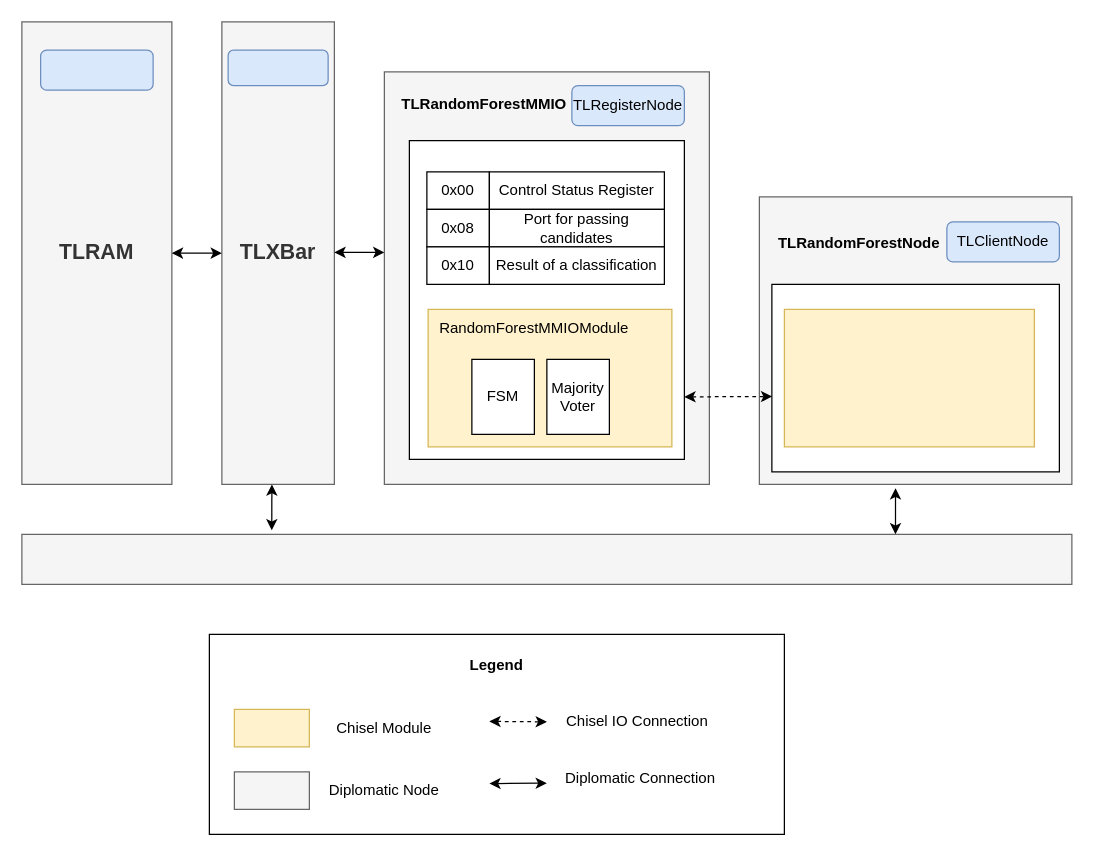
Image size: 1094x856. Some labels were removed from this diagram. The centre of each missing label's shape, as x and y in pixels:
"DiplomaticSRAM" goes at [96,69].
"NexusNode" goes at [277,67].
"Periphery Bus" goes at [546,558].
"RandomForestNodeModule" goes at [908,377].
